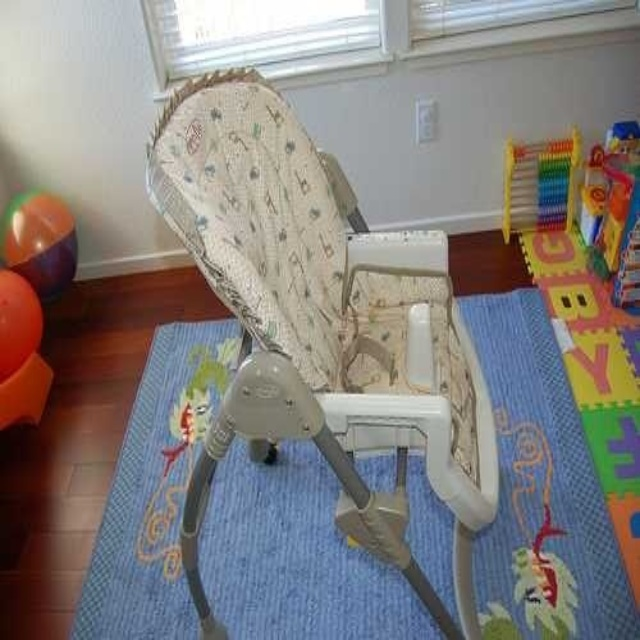obstacle: (146, 69, 498, 636)
